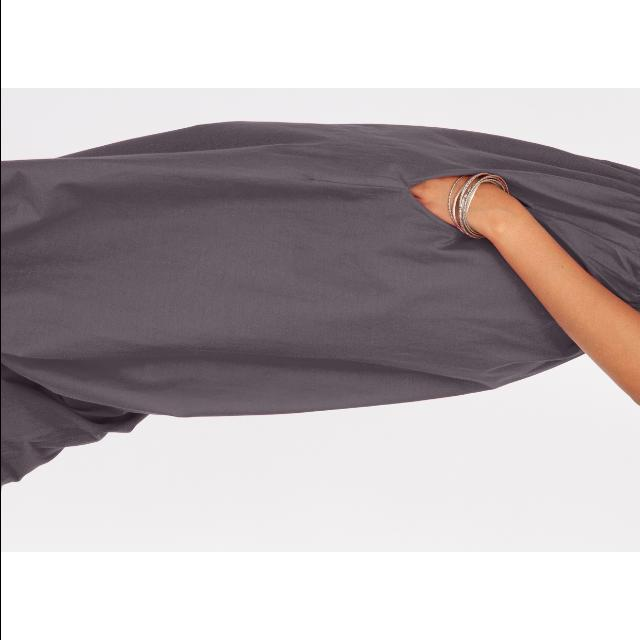cotton: (0, 147, 640, 423)
